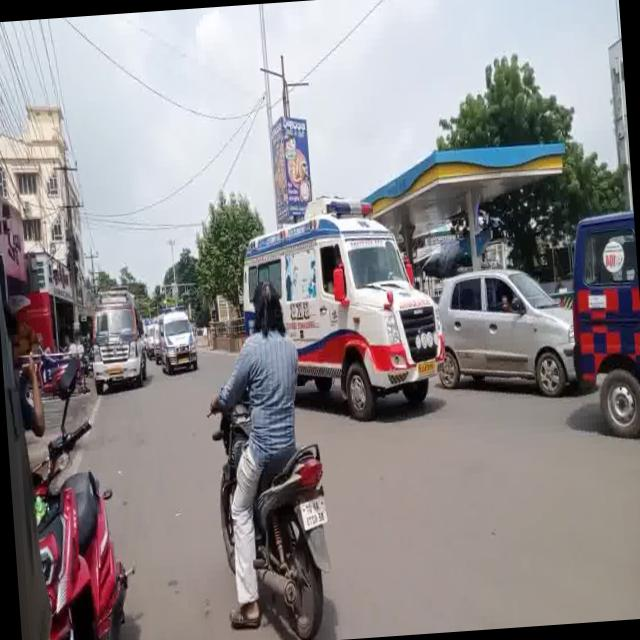ambulance: (225, 175, 438, 418), (566, 203, 640, 434), (79, 274, 171, 410), (148, 304, 199, 403)
